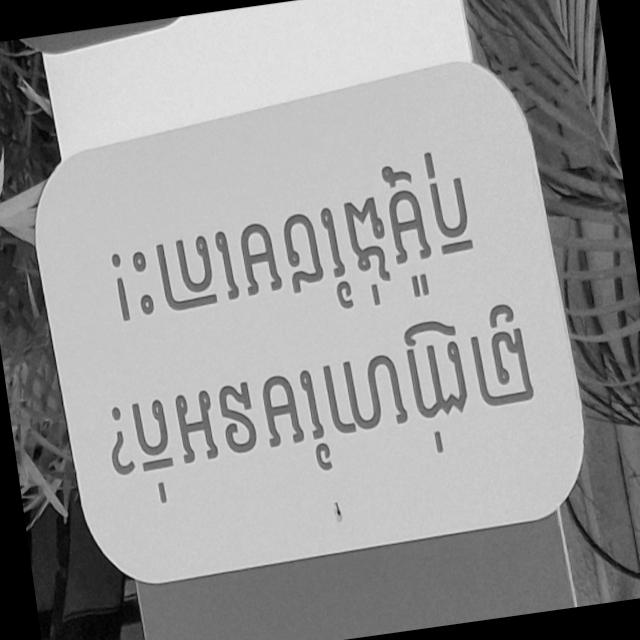Yolov11_80vkh: (79, 95, 523, 379), (93, 289, 579, 535)
